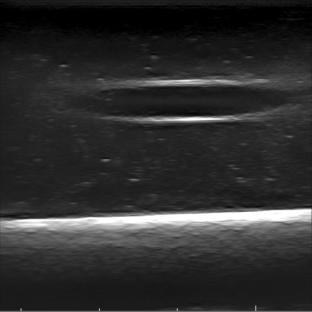vessel: (102, 77, 289, 125)
